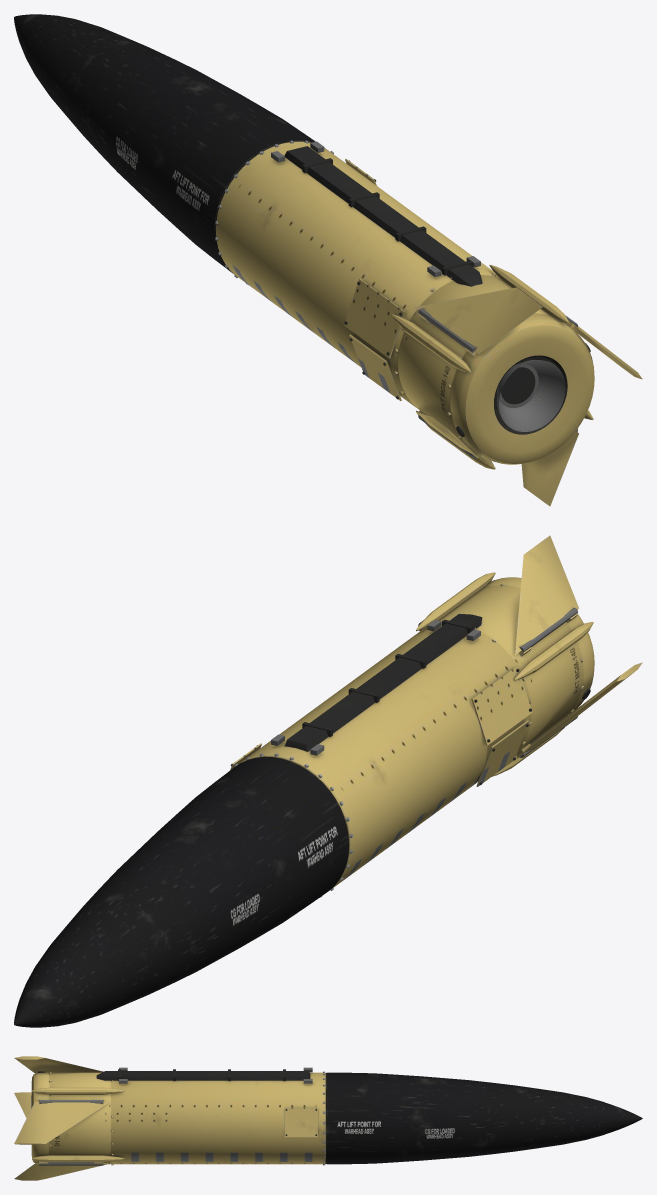
File: atacms.glb
3 renders of one model, top to bottom at view 1: azimuth 30°, elevation 25°; view 2: azimuth 150°, elevation 25°; view 3: azimuth 270°, elevation 25°, orthographic. The views are drawn at different scales.
Parts seen in each view (by area): view 1: body, fin4, fin2; view 2: body, fin4, fin3; view 3: body, fin1, fin2, fin4, fin3.
Boxes of the visible parts, x1,y1,x2,y2 form: body: (14,14,594,469); fin4: (415,287,542,353); fin2: (521,429,578,506); body: (14,572,594,1027); fin4: (515,535,578,655); fin3: (516,662,642,758); body: (31,1067,642,1165); fin1: (14,1100,110,1144); fin2: (14,1162,109,1180); fin4: (14,1056,103,1073); fin3: (14,1092,31,1117).
Bounding box in the file's own units: 0.896 × 0.896 × 4.22.
2 materials, 2 textured.
